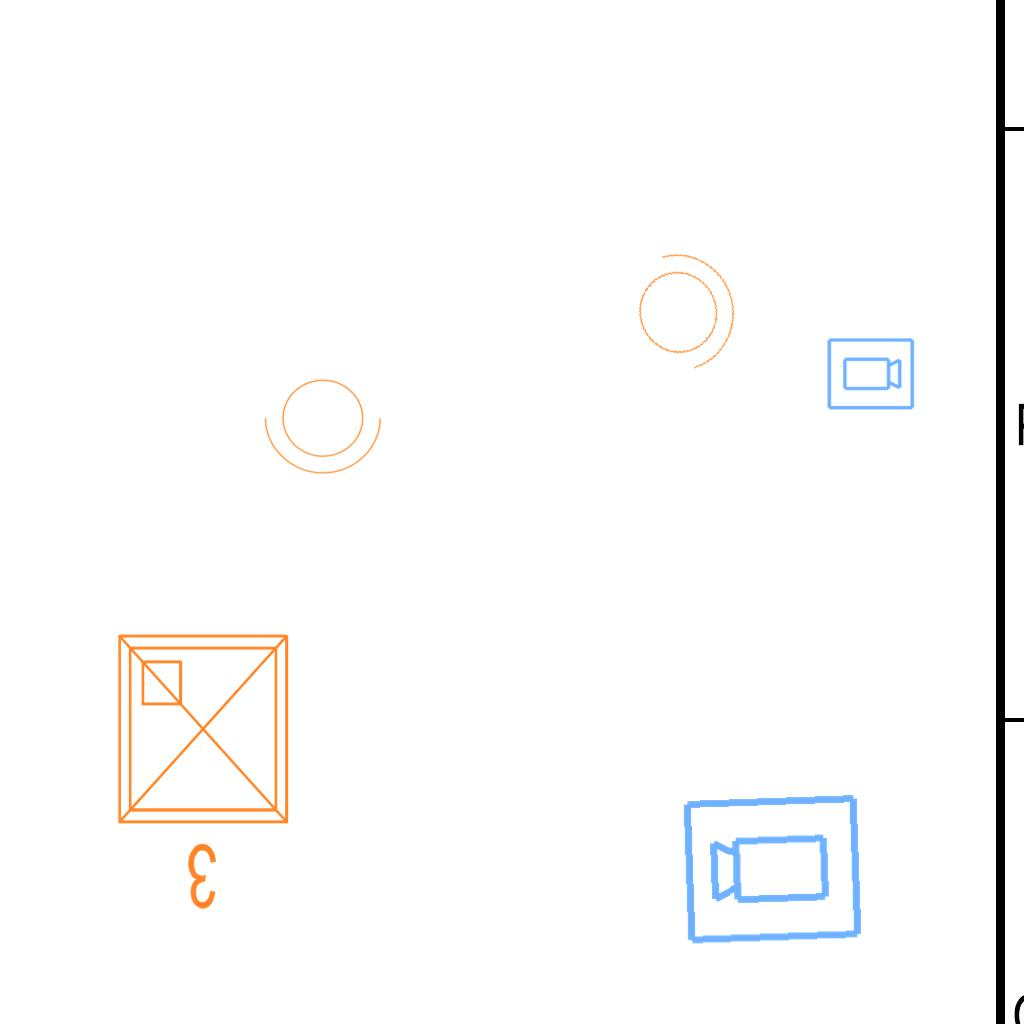Einbaudownlights_LED_Konferenzraeume: (103, 620, 311, 920)
KFO_Kamera_mit_Festobjektiv: (679, 787, 867, 949), (825, 336, 916, 413)
Scheinwerfer_fuer_Alarmbeleuchtung: (609, 229, 755, 387), (260, 367, 392, 479)
